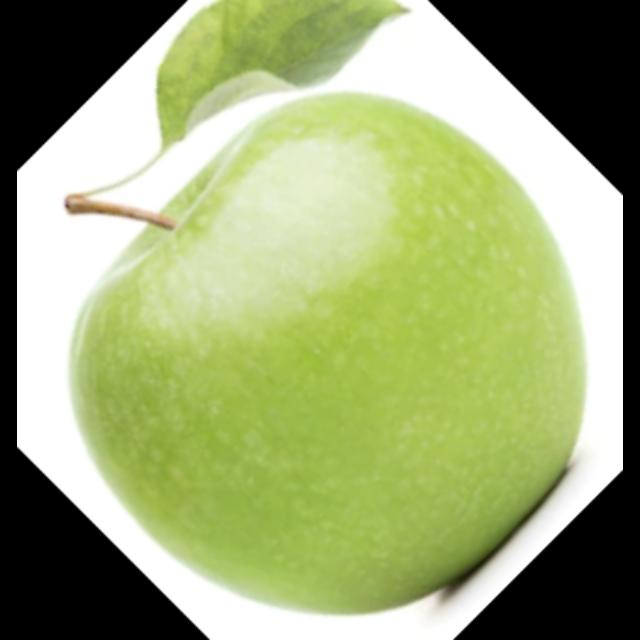Apel Segar: (64, 92, 600, 620)
